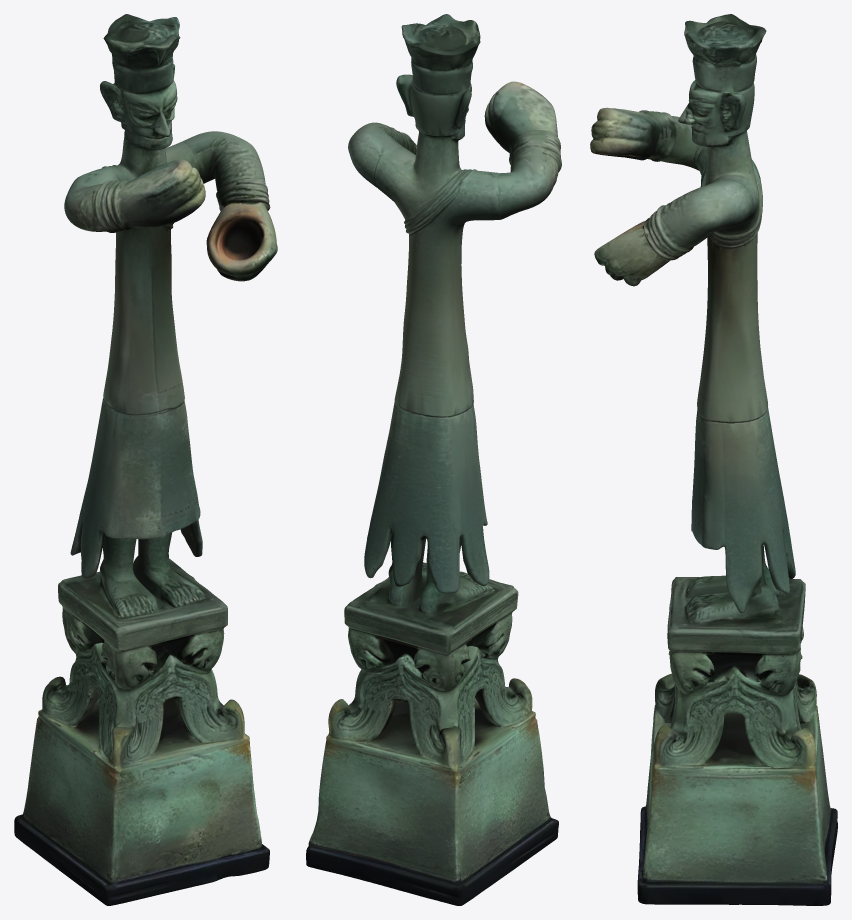
File: figure-great.glb
The picture shows the model from 3 angles, left to right: view 1: azimuth 30°, elevation 25°; view 2: azimuth 150°, elevation 25°; view 3: azimuth 270°, elevation 25°; orthographic projection. The views are drawn at different scales.
Visible parts, largest first — view 1: node_0; view 2: node_0; view 3: node_0.
Part boxes in pixels (x1=…): node_0: x1=14, y1=14, x2=277, y2=905; node_0: x1=306, y1=14, x2=561, y2=905; node_0: x1=590, y1=14, x2=837, y2=905.
Bounding box in the file's own units: 0.2764 × 1.14 × 0.3049.
1 material, 1 textured.
